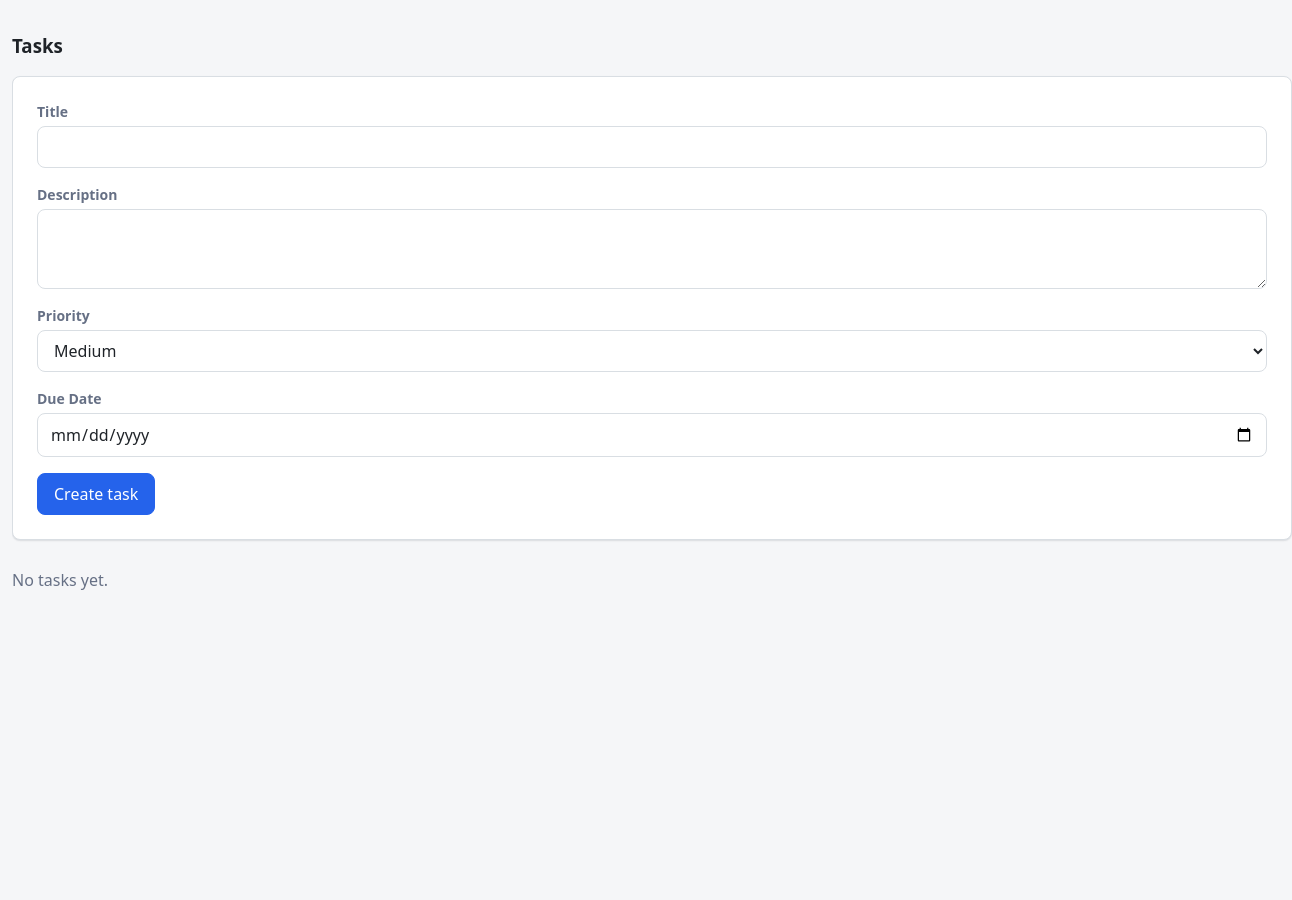
Test: TasksSection › shows a friendly message for a backend DueDate validation error, not a generic failure message
Expected: the text "No tasks yet." is shown, [12, 569, 108, 591]
In the field labelled "Title": point(652, 147) [37, 126, 1267, 168], type "Write spec"
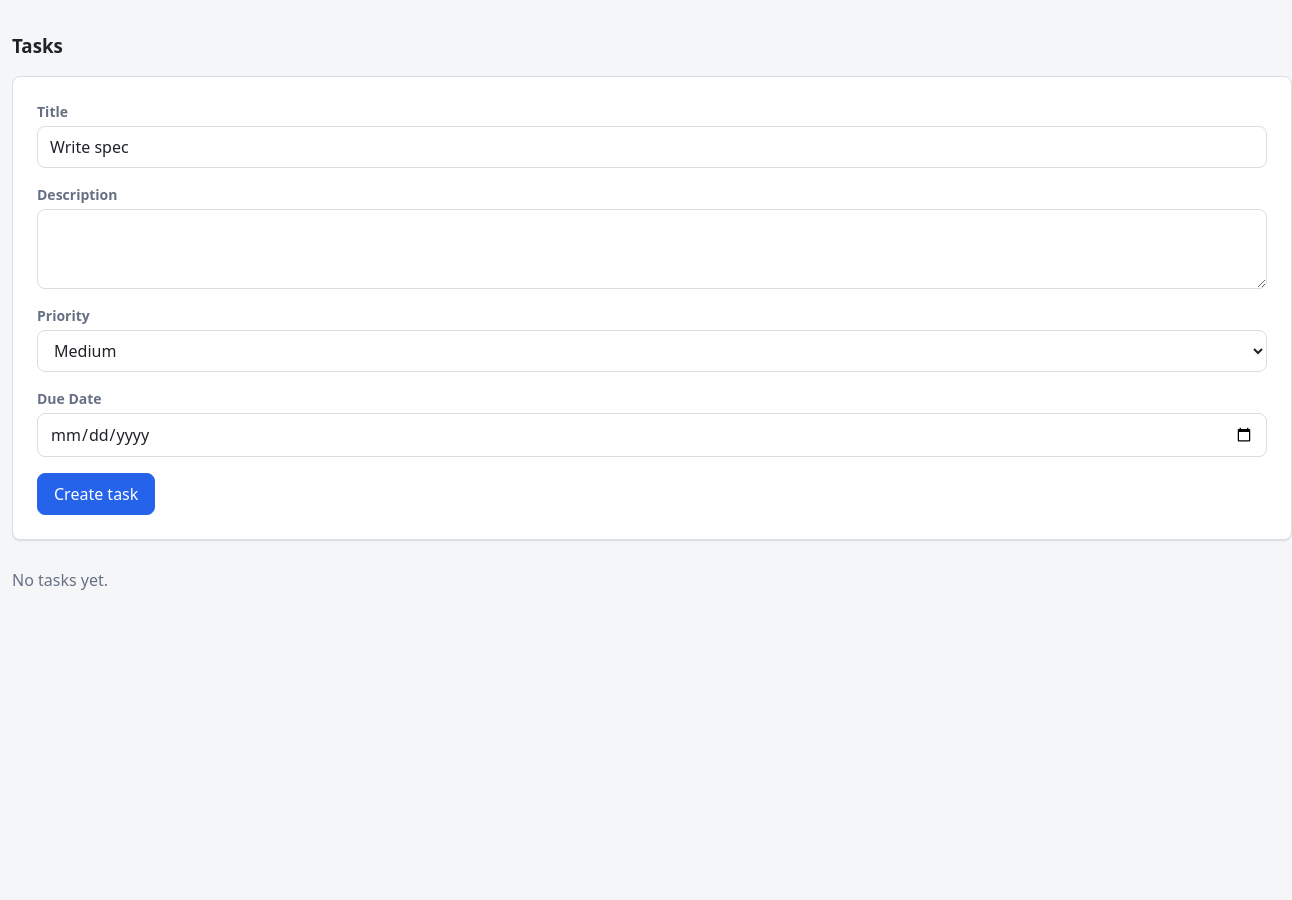
Click the button "Create task": point(96, 494) [37, 473, 155, 515]
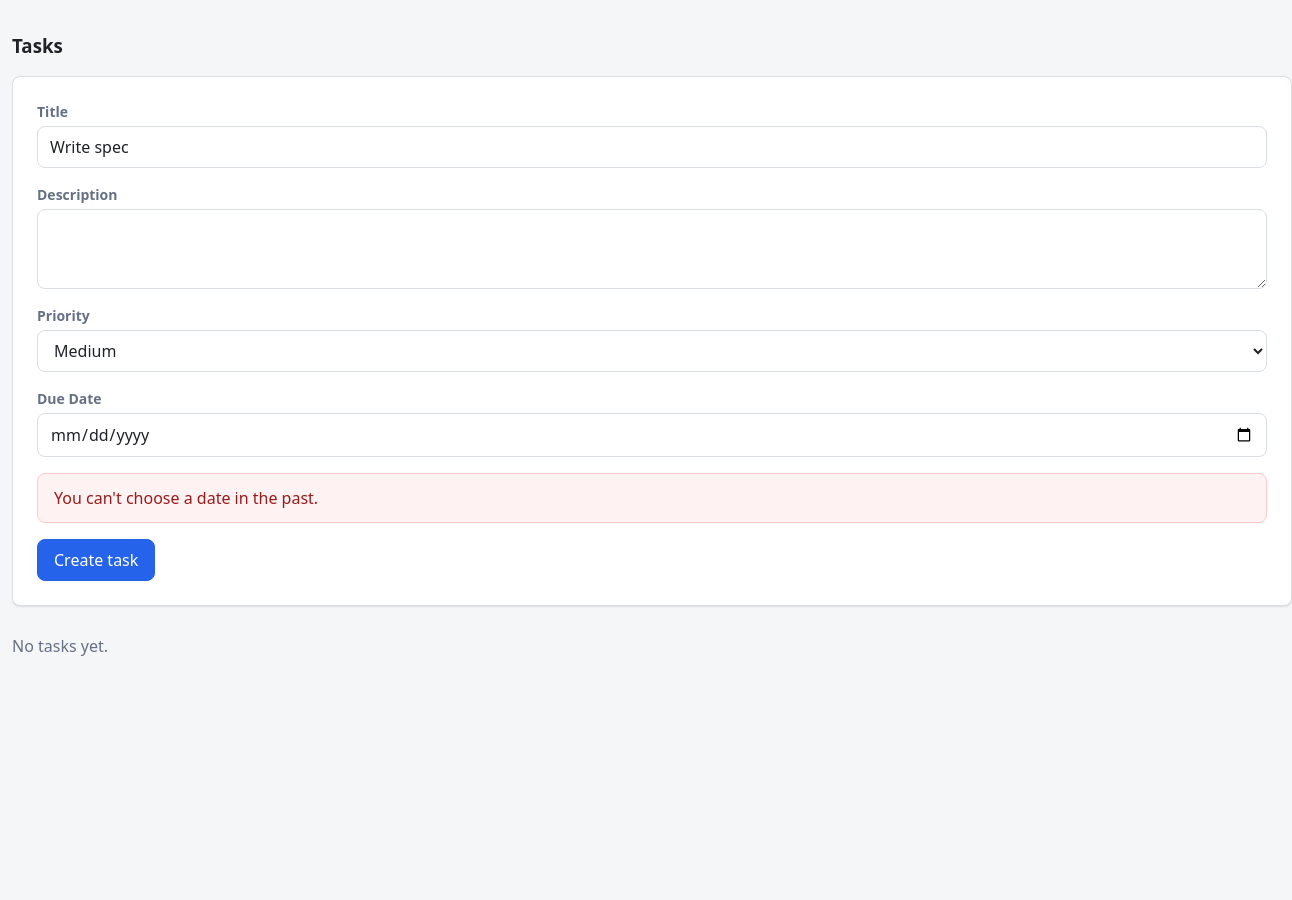
Expected: the message does not show "Validation failed.", [37, 473, 1267, 523]
Expected: the message reads "You can't choose a date in the past.", [54, 487, 318, 509]
